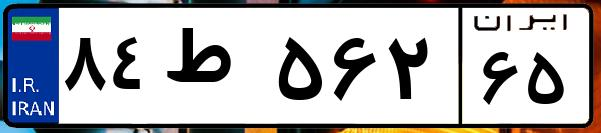2: (385, 28, 445, 110)
4: (110, 28, 158, 98)
5: (270, 28, 330, 110), (525, 38, 570, 115)
6: (330, 28, 385, 110), (475, 38, 525, 113)
8: (57, 26, 110, 100)
ط: (158, 20, 270, 120)
